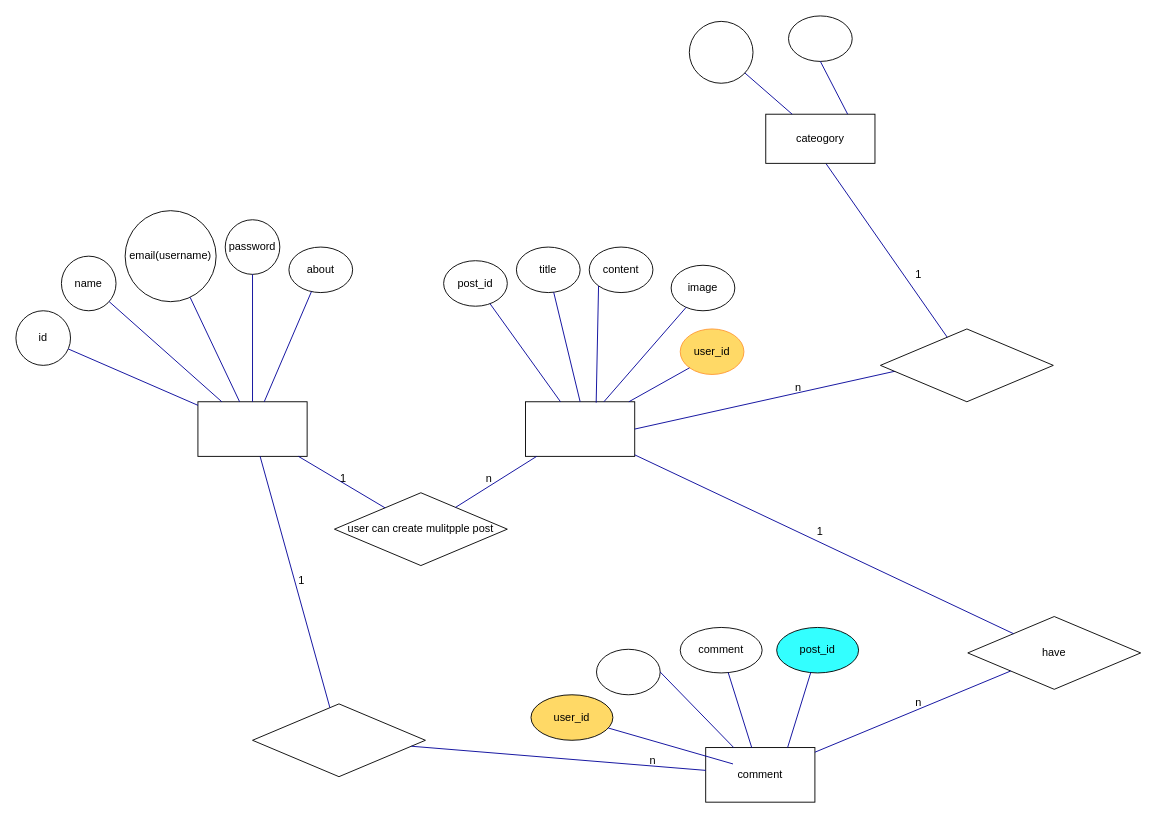
The diagram is 1157 pixels wide and 818 high, and some of its shapes have lost their labels. Each missing label, with the centre of its shape:
category: the point at 820,38
category _ID: the point at 720,51
comment_id: the point at 628,671
contains: the point at 966,365
do: the point at 338,740
post: the point at 580,428
User: the point at 252,428
